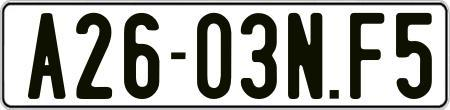0: (196, 12, 235, 104)
2: (76, 11, 112, 102)
3: (238, 10, 275, 100)
5: (394, 11, 432, 100)
6: (121, 10, 156, 100)
A: (26, 12, 63, 99)
F: (350, 12, 389, 100)
N: (286, 13, 321, 101)
